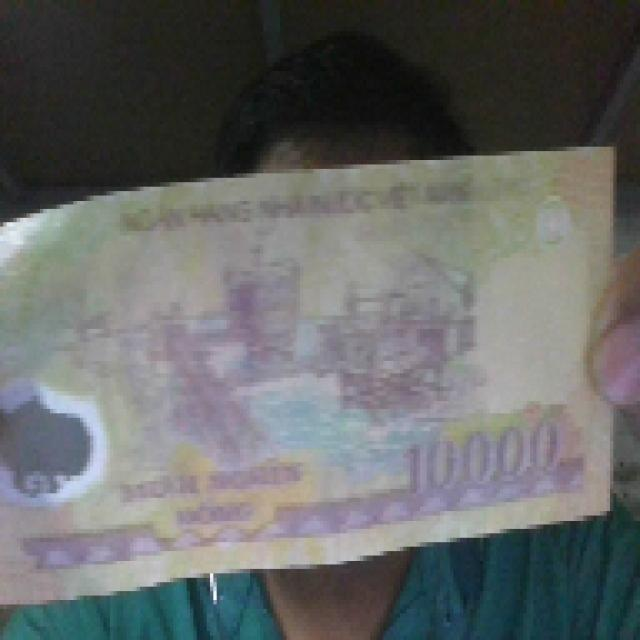10 000 VND: (0, 137, 623, 613)
